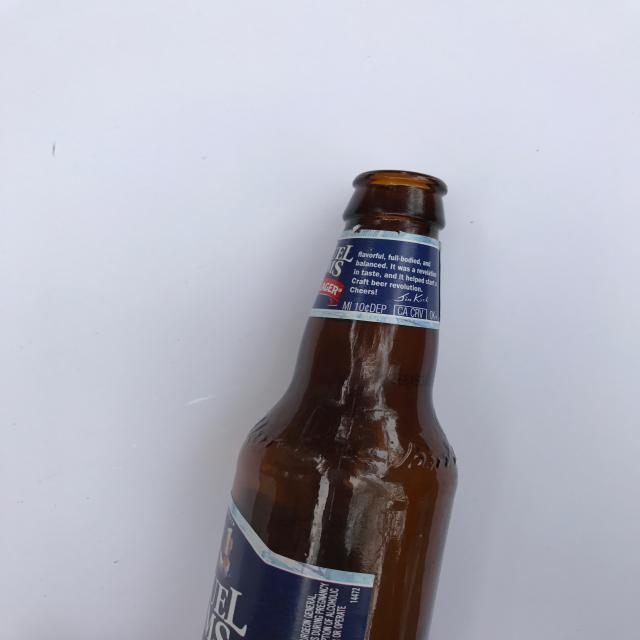glass: (201, 168, 459, 638)
